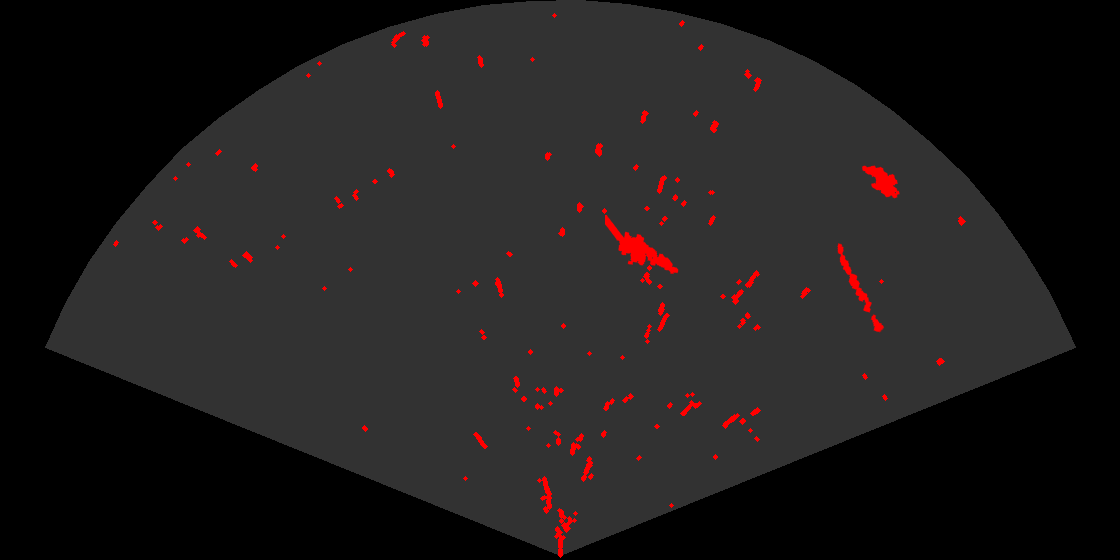AUV: (860, 164, 901, 200)
chain: (836, 242, 886, 334)
frogman: (605, 215, 680, 276)
